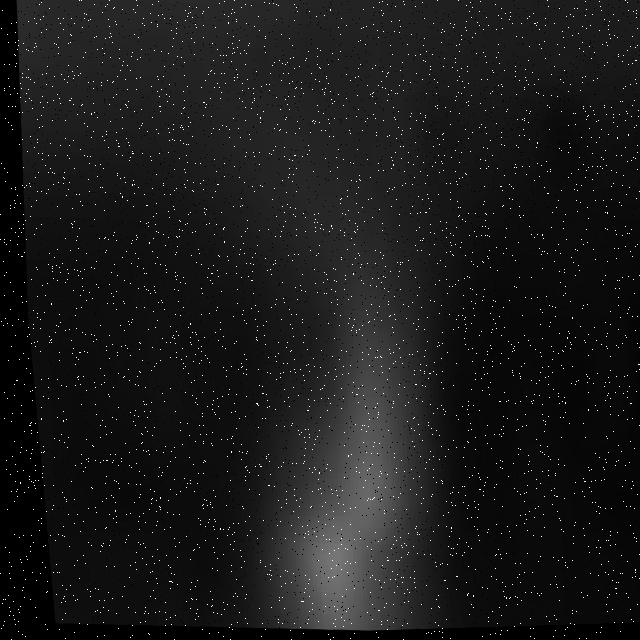person: (201, 164, 480, 637)
